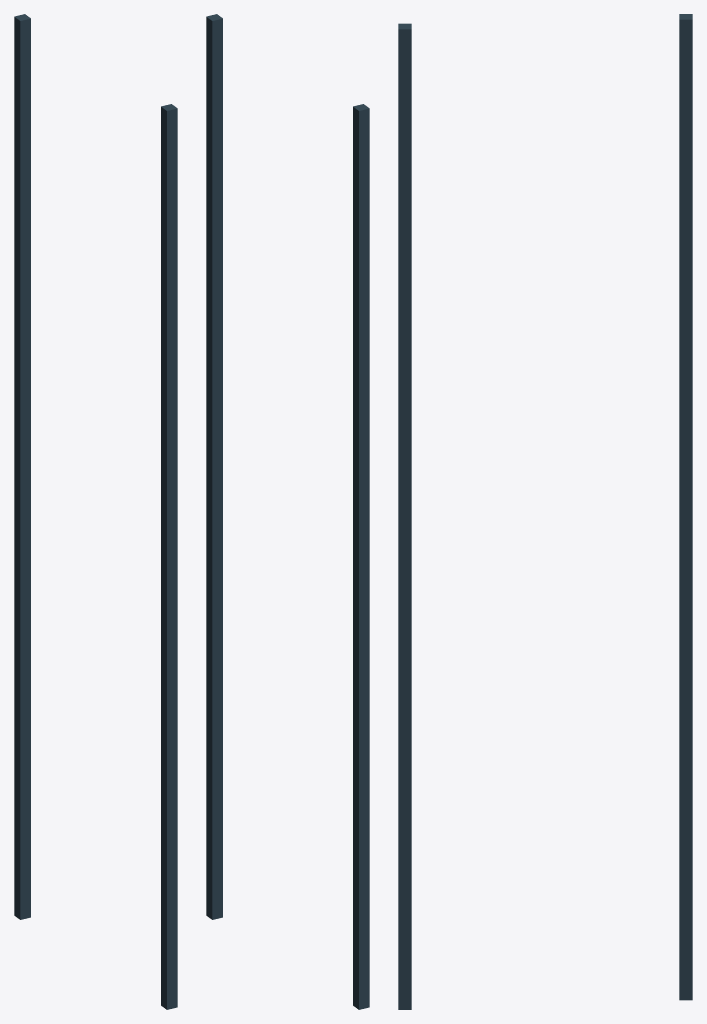
File: v02-transit-world-01-01-03.glb
3 views of the same model, side by side, from view 1: azimuth 30°, elevation 25°; view 2: azimuth 210°, elevation 25°; view 3: azimuth 270°, elevation 25° (orthographic). The views are drawn at different scales.
Visible parts, largest first — view 1: v02-transit-world-01-01-03; view 2: v02-transit-world-01-01-03; view 3: v02-transit-world-01-01-03.
Part boxes in pixels (box(x1,y1,x2,y2)): v02-transit-world-01-01-03: box(14, 14, 177, 1009); v02-transit-world-01-01-03: box(206, 14, 369, 1009); v02-transit-world-01-01-03: box(398, 14, 692, 1009).
Bounding box in the file's own units: 3.2 × 96.25 × 26.2.
